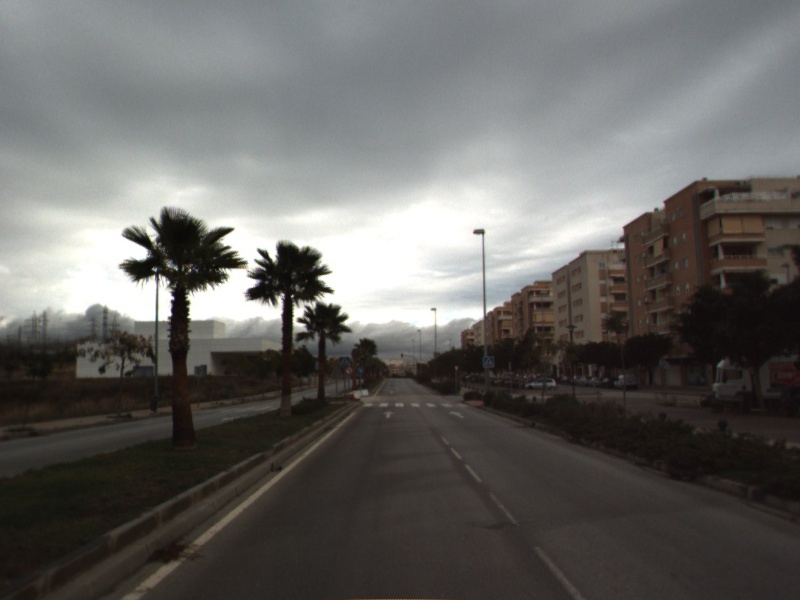STRAIGHT: (447, 409, 466, 420), (380, 409, 397, 420)
